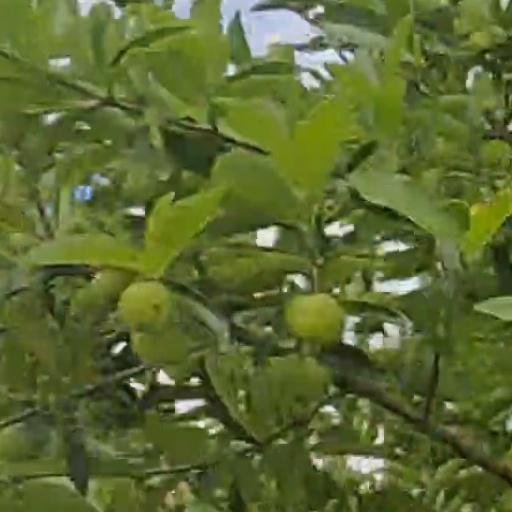acerola: (117, 281, 170, 332), (289, 294, 343, 344)
